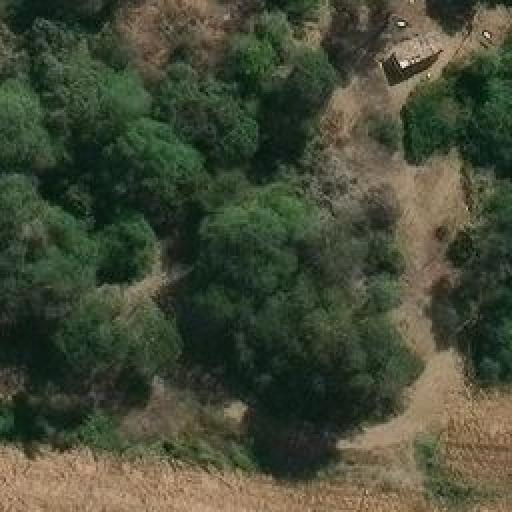manzanas: (384, 31, 443, 76)
